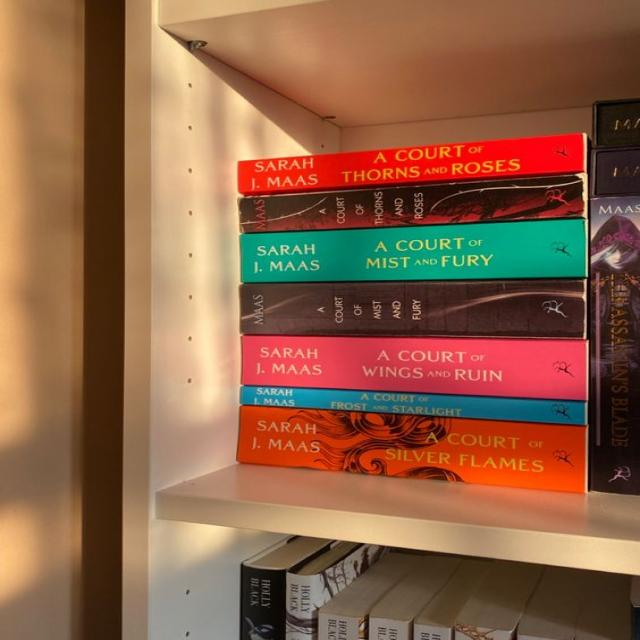book: (237, 408, 584, 493), (242, 335, 587, 399), (241, 169, 583, 233), (242, 219, 586, 282), (238, 134, 586, 195), (241, 280, 584, 338), (590, 99, 639, 494), (241, 387, 584, 423)
